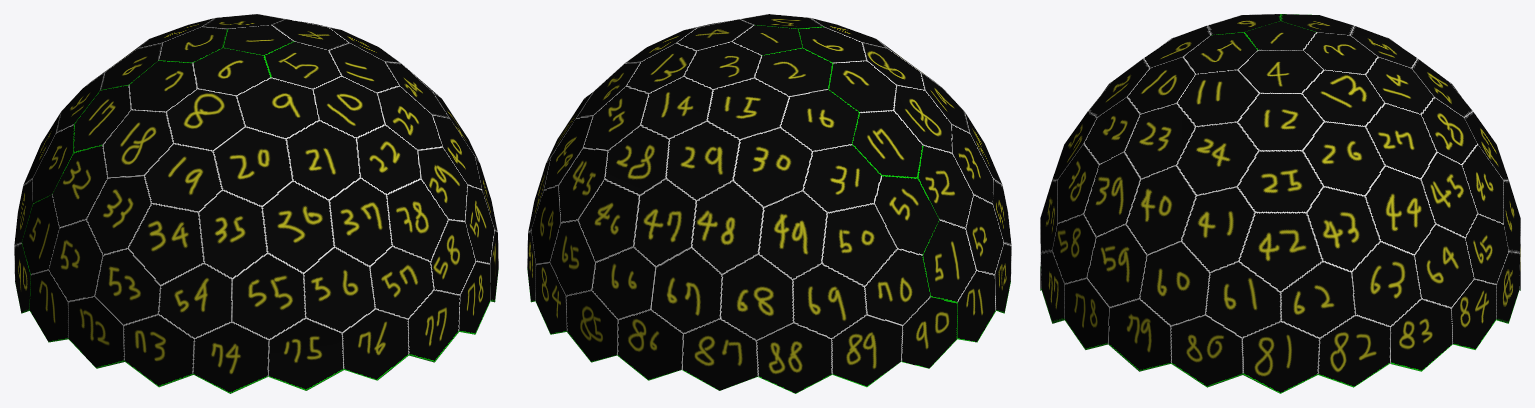
The picture shows the model from 3 angles, left to right: view 1: azimuth 30°, elevation 25°; view 2: azimuth 150°, elevation 25°; view 3: azimuth 270°, elevation 25°; orthographic projection.
Visible parts, largest first — view 1: 36, 55, 56, 20, 35, 34, 21, 75, 54, 74, 37, 19 (+42 smaller); view 2: 48, 68, 67, 30, 49, 50, 29, 87, 69, 88, 47, 31 (+42 smaller); view 3: 42, 63, 60, 41, 43, 24, 26, 81, 40, 44, 62, 61 (+40 smaller).
Part boxes in pixels (<box>): 36: <box>262,181,334,273</box>; 55: <box>232,254,306,340</box>; 56: <box>303,248,375,333</box>; 20: <box>213,127,293,206</box>; 35: <box>199,190,267,279</box>; 34: <box>128,203,204,285</box>; 21: <box>286,120,360,200</box>; 75: <box>268,319,344,390</box>; 54: <box>159,263,232,338</box>; 74: <box>193,322,269,393</box>; 37: <box>330,178,392,266</box>; 19: <box>144,144,222,212</box>; 48: <box>691,181,763,273</box>; 68: <box>719,254,793,340</box>; 67: <box>650,248,722,333</box>; 30: <box>732,127,812,206</box>; 49: <box>758,190,826,279</box>; 50: <box>821,203,897,285</box>; 29: <box>665,120,739,200</box>; 87: <box>681,319,757,390</box>; 69: <box>793,263,866,338</box>; 88: <box>756,322,832,393</box>; 47: <box>633,178,695,266</box>; 31: <box>803,144,881,212</box>; 42: <box>1238,213,1322,292</box>; 63: <box>1351,241,1421,326</box>; 60: <box>1139,241,1209,326</box>; 41: <box>1181,187,1254,272</box>; 43: <box>1306,187,1379,272</box>; 24: <box>1176,122,1258,196</box>; 26: <box>1302,122,1384,196</box>; 81: <box>1241,322,1319,393</box>; 40: <box>1125,166,1195,255</box>; 44: <box>1365,166,1435,255</box>; 62: <box>1280,262,1355,338</box>; 61: <box>1205,262,1280,338</box>.
Size of the model in its own units: 89.2 by 52.35 by 89.29.
1 material, 1 textured.
